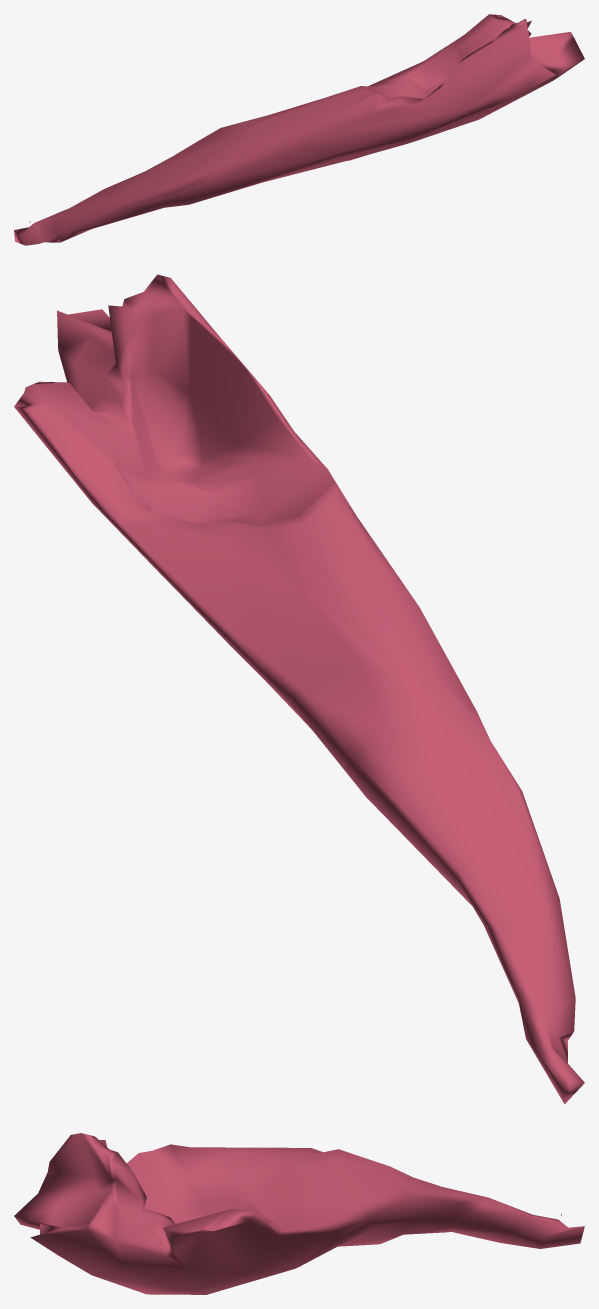
3 views of the same model, one above another, from view 1: azimuth 30°, elevation 25°; view 2: azimuth 150°, elevation 25°; view 3: azimuth 270°, elevation 25° (orthographic). The views are drawn at different scales.
Visible parts, largest first — view 1: 右侧拇收肌斜头; view 2: 右侧拇收肌斜头; view 3: 右侧拇收肌斜头.
Part boxes in pixels (x1,y1,x2,y2): 右侧拇收肌斜头: (14, 14, 584, 245); 右侧拇收肌斜头: (14, 274, 584, 1104); 右侧拇收肌斜头: (14, 1133, 584, 1294).
Bounding box in the file's own units: 0.0648 × 0.0363 × 0.0458.
